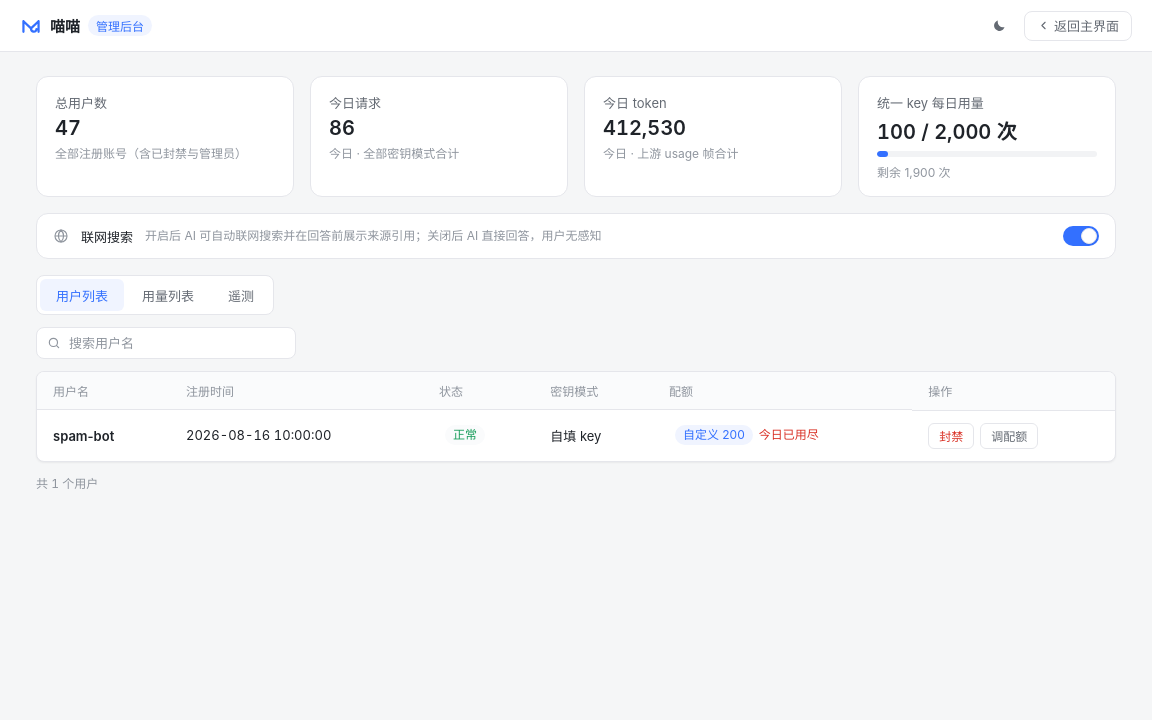
Test: 用户搜索（design-iter-12 §2.1） › 搜索命中主色高亮（mark.hl，沿 REQ-016 语法）
Type "spam" into the field with placeholder "搜索用户名" at (176, 343), box [67,328,285,358]
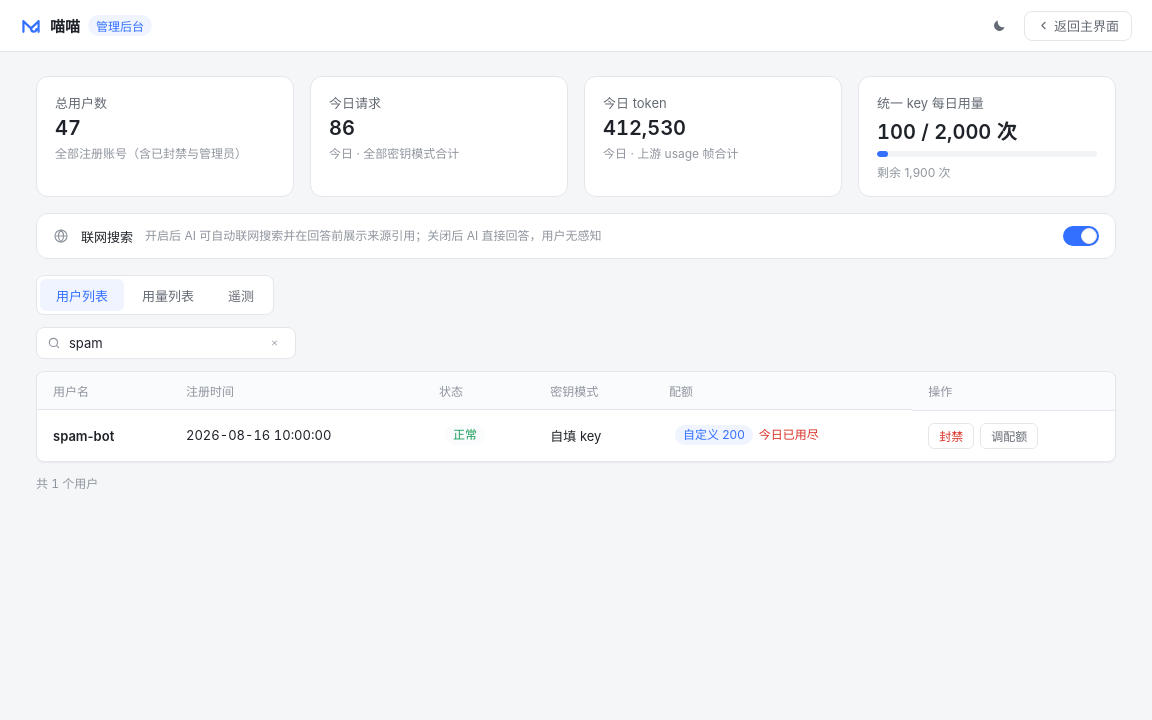
Press Enter in the field named "搜索用户名", box [67,328,259,358]
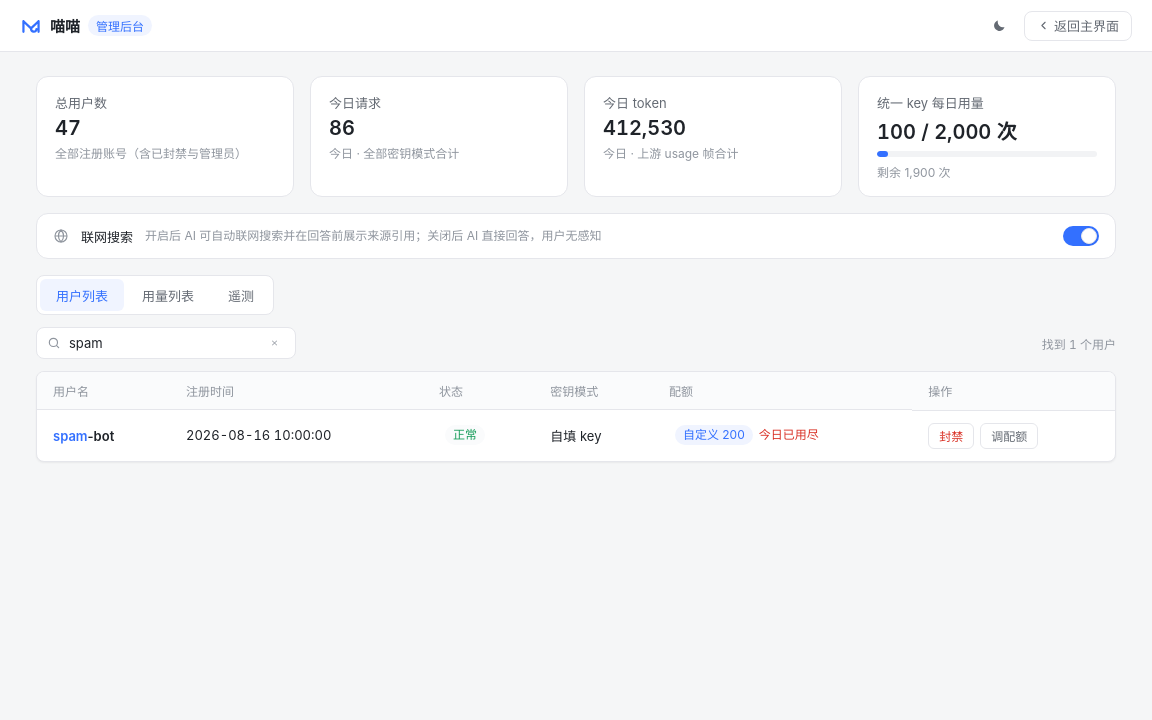
Expected: the text "spam" is shown, [53,428,88,444]
Now the element with class "uname" reads "spam-bot", box [53,428,114,444]
